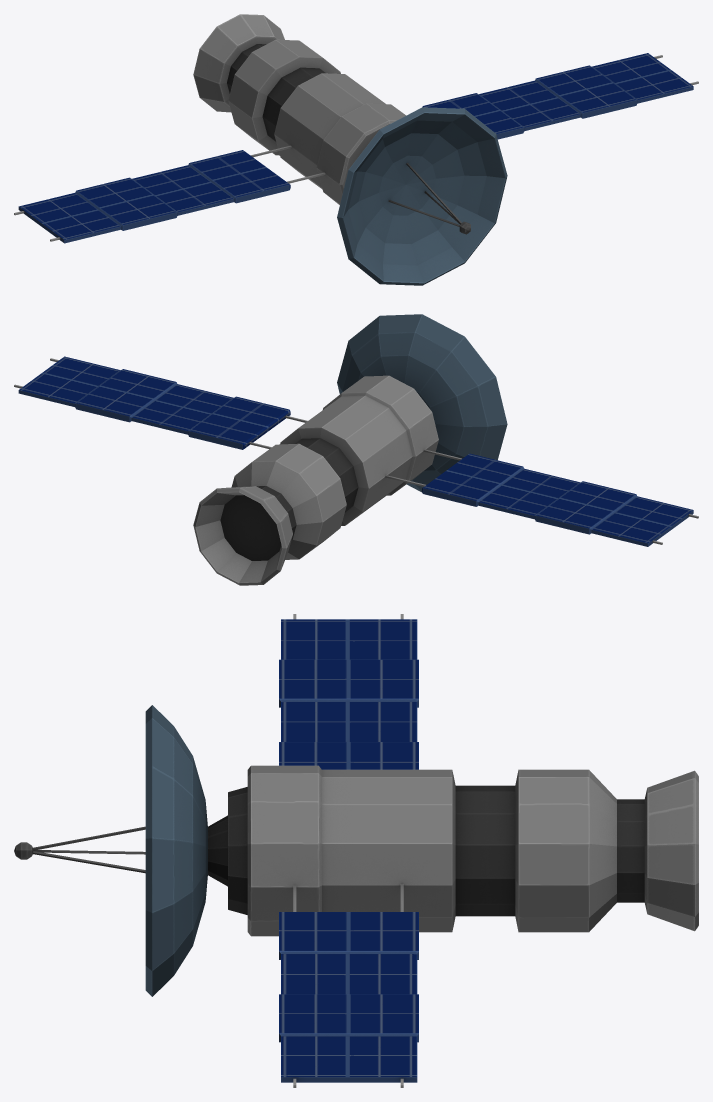
Rendered from satellite.glb.
3 renders of one model, top to bottom at view 1: azimuth 30°, elevation 25°; view 2: azimuth 150°, elevation 25°; view 3: azimuth 270°, elevation 25°, orthographic. The views are drawn at different scales.
Visible parts, largest first — view 1: Satellite_mesh; view 2: Satellite_mesh; view 3: Satellite_mesh.
Boxes of the visible parts, x1=… form: Satellite_mesh: x1=14, y1=14, x2=698, y2=285; Satellite_mesh: x1=14, y1=314, x2=698, y2=585; Satellite_mesh: x1=14, y1=614, x2=698, y2=1087.
Bounding box in the file's own units: 41.03 × 10.8 × 25.21.
1 material, 1 textured.
